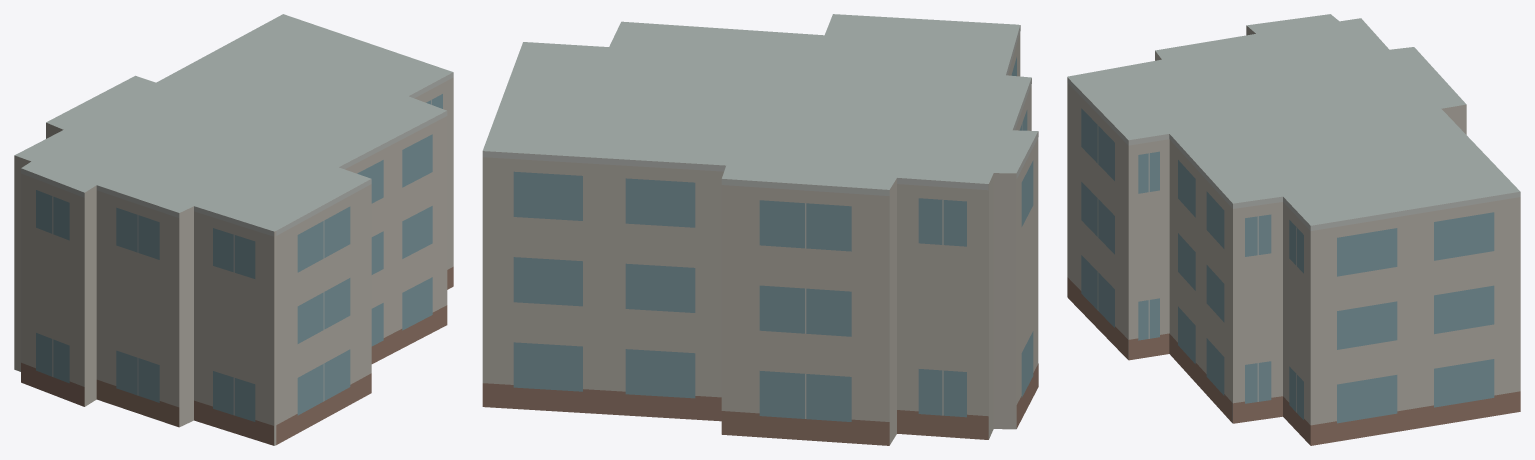
File: survey-upis-32856125.glb
3 views of the same model, side by side, from view 1: azimuth 30°, elevation 25°; view 2: azimuth 150°, elevation 25°; view 3: azimuth 270°, elevation 25° (orthographic). The views are drawn at different scales.
Visible parts, largest first — view 1: survey-upis-32856125.tmp; view 2: survey-upis-32856125.tmp; view 3: survey-upis-32856125.tmp.
Part boxes in pixels (x1,y1,x2,y2): survey-upis-32856125.tmp: (14,14,453,445); survey-upis-32856125.tmp: (482,14,1038,445); survey-upis-32856125.tmp: (1067,14,1520,445).
Size of the model in its own units: 20.75 by 10.05 by 18.76.
